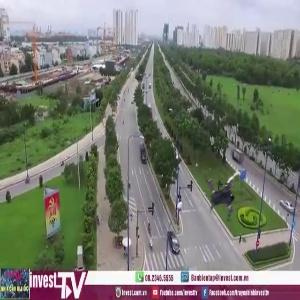drone: (197, 161, 263, 227)
